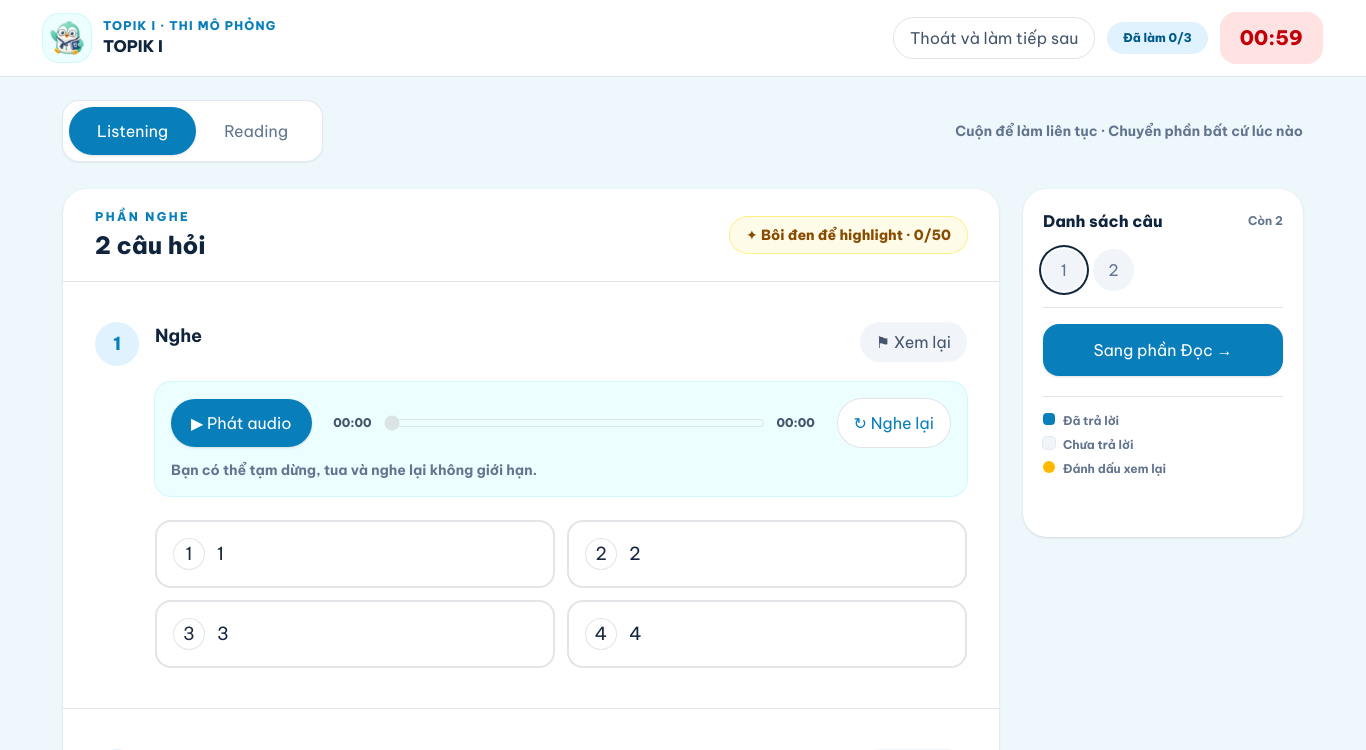
it: ExamRunner listening › hiện toàn bộ câu theo dạng cuộn và chuyển Listening/Reading tự do
Check: the button "Sang phần Đọc →" is shown, box [1043,324,1283,376]
Click the button "Reading". click: (256, 131)
box: [196,107,316,155]
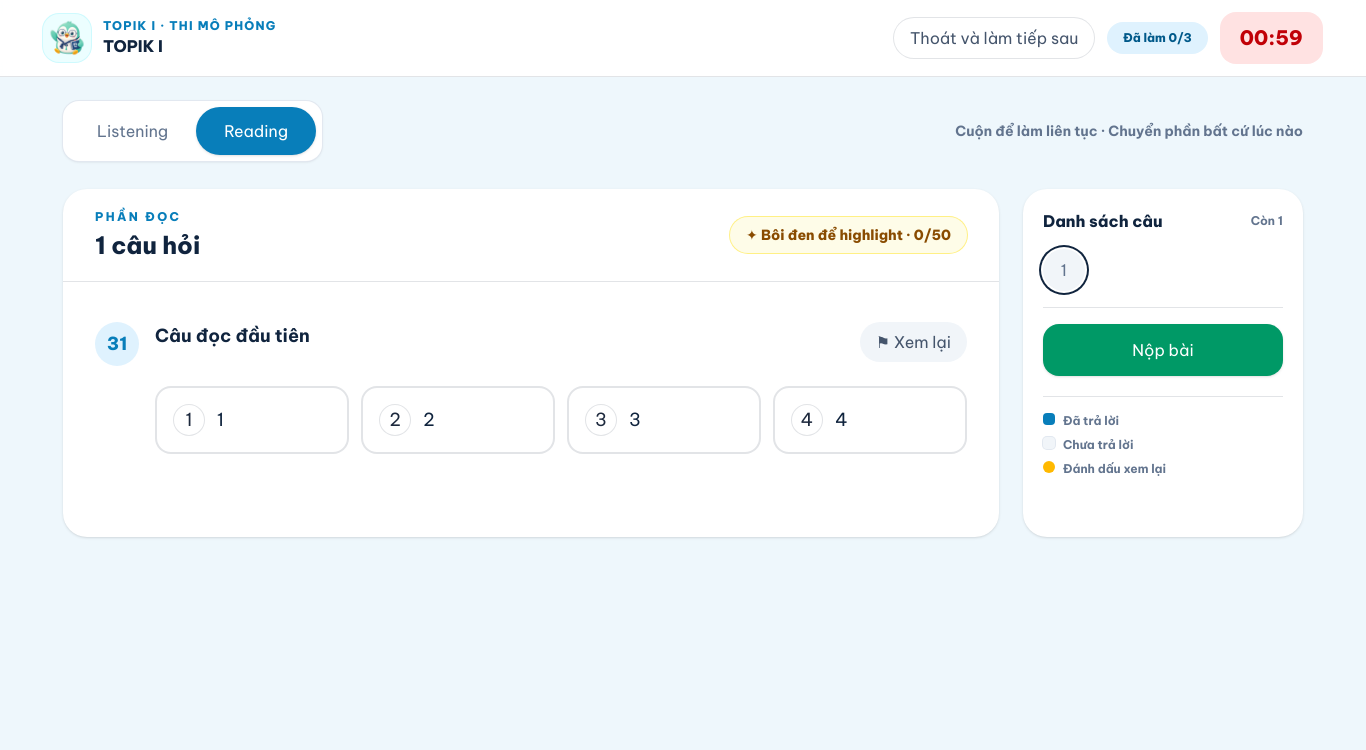
Check: the button "Listening" is shown, box [69,107,196,155]
Check: the heading "Câu đọc đầu tiên" is shown, box [155,324,310,347]
Check: the button "Nộp bài" is shown, box [1043,324,1283,376]
